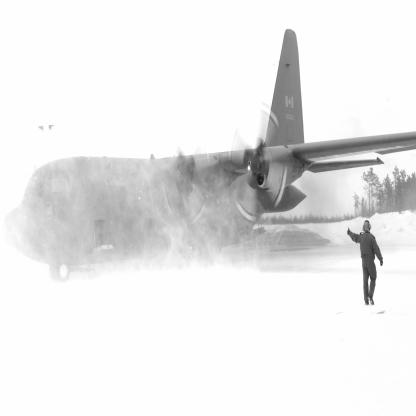C130: (3, 29, 416, 284)
